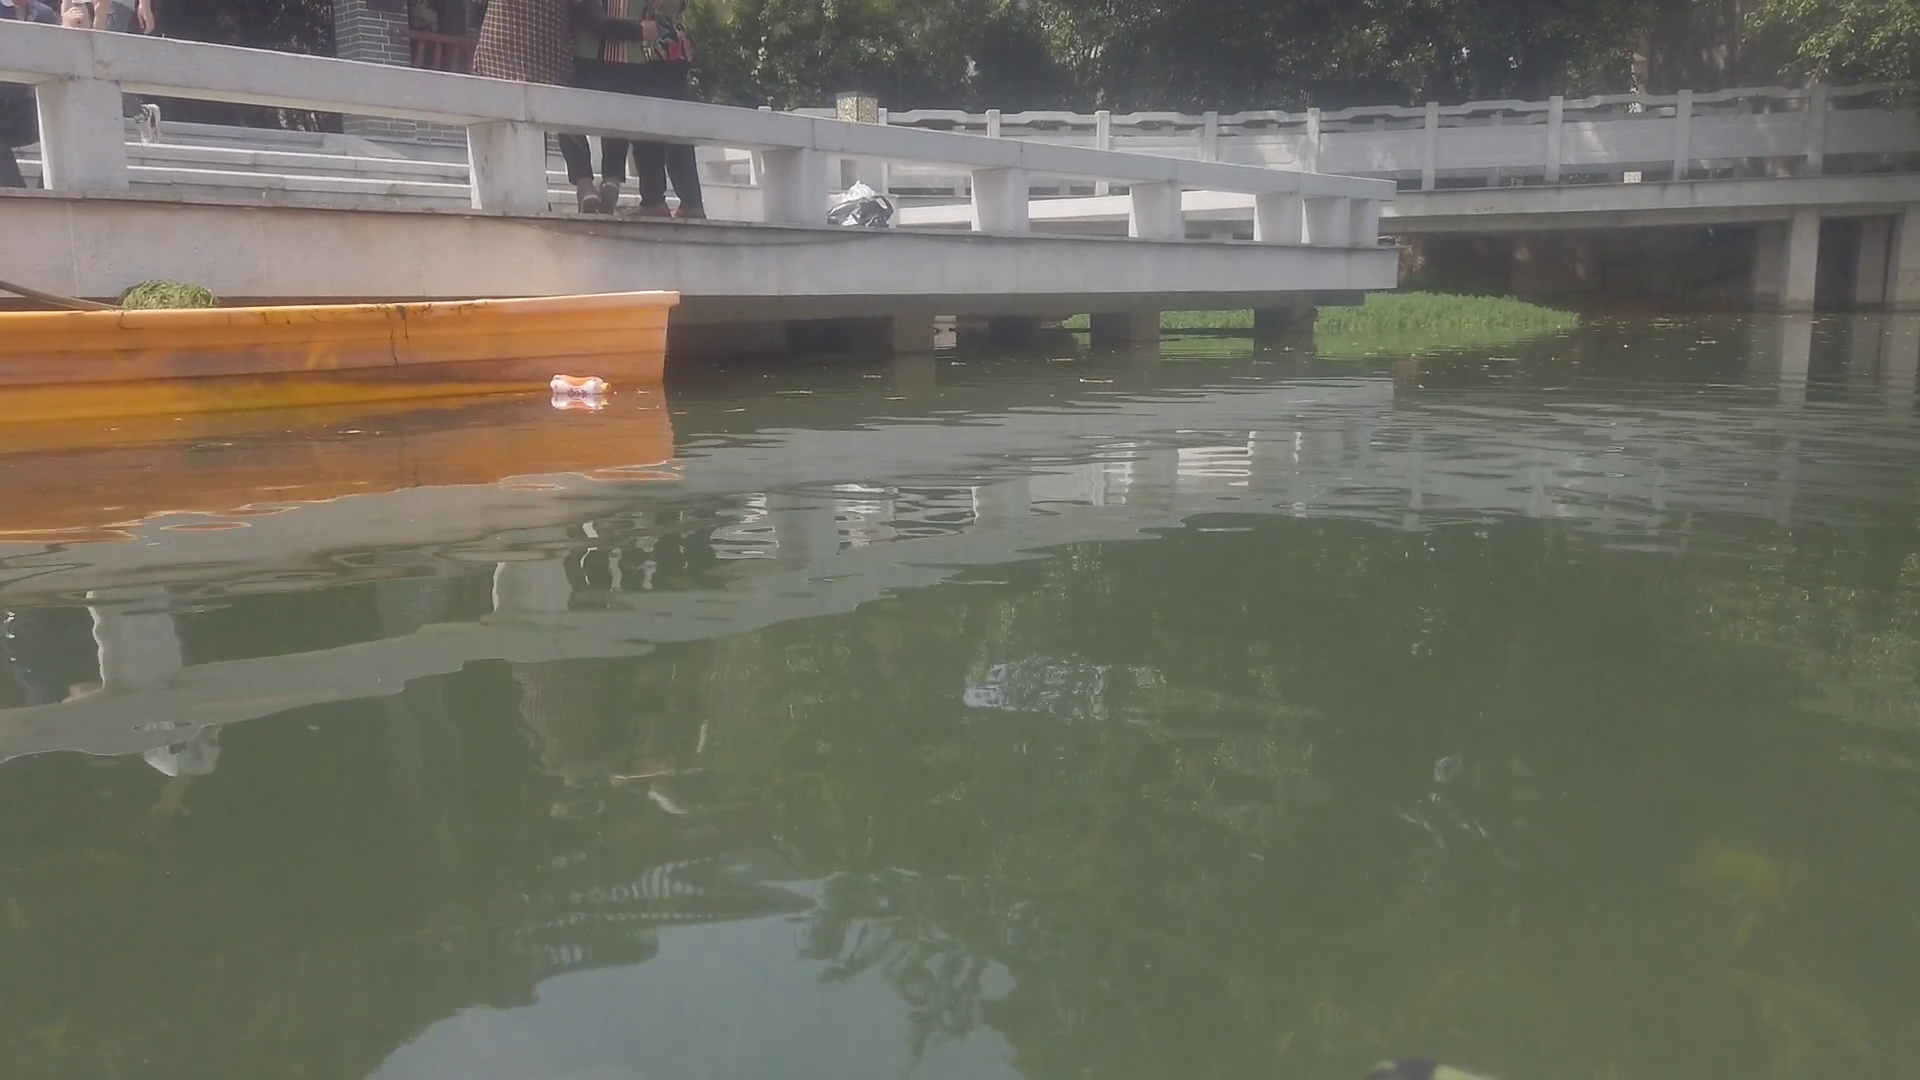bottle: (547, 371, 615, 393)
